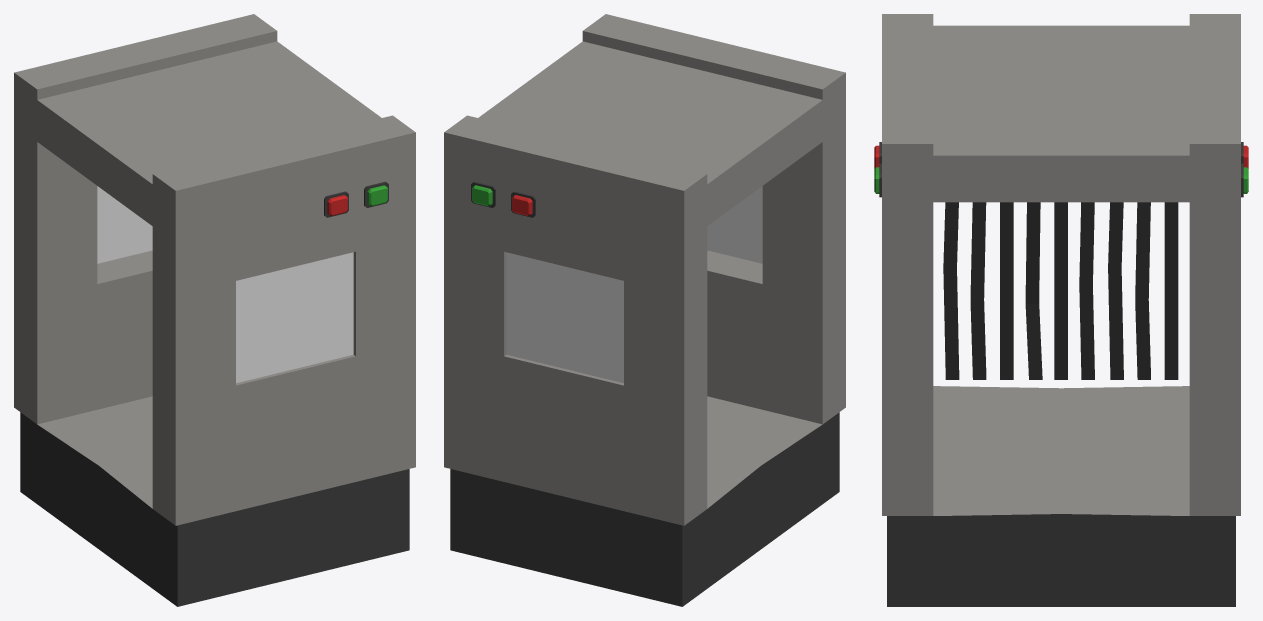
The model's file is SM_Props_Interior_Generic_Factory_Conveyor_Machine_01.fbx.
3 views of the same model, side by side, from view 1: azimuth 30°, elevation 25°; view 2: azimuth 150°, elevation 25°; view 3: azimuth 270°, elevation 25° (orthographic). The views are drawn at different scales.
Parts seen in each view (by area): view 1: SM_Props_Interior_Generic_Factory_Conveyor_Machine_01; view 2: SM_Props_Interior_Generic_Factory_Conveyor_Machine_01; view 3: SM_Props_Interior_Generic_Factory_Conveyor_Machine_01.
Boxes of the visible parts, x1,y1,x2,y2 form: SM_Props_Interior_Generic_Factory_Conveyor_Machine_01: (14,14,415,606); SM_Props_Interior_Generic_Factory_Conveyor_Machine_01: (444,14,845,606); SM_Props_Interior_Generic_Factory_Conveyor_Machine_01: (874,14,1248,606).
Bounding box in the file's own units: 120 × 200 × 146.
